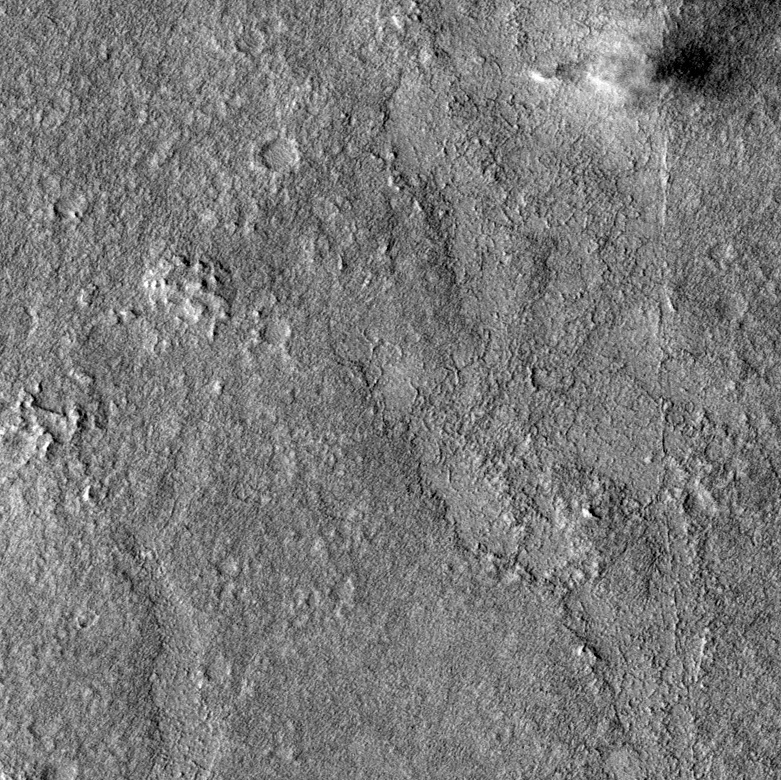dust_devil: (524, 35, 736, 109)
